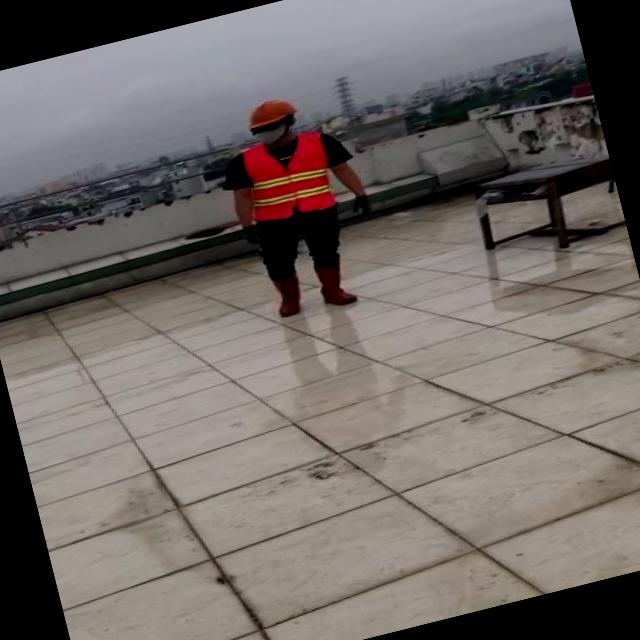boots: (314, 256, 362, 308), (268, 272, 306, 318)
gloves: (339, 186, 380, 219), (237, 208, 264, 254)
helmet: (240, 92, 299, 130)
vest: (238, 130, 334, 222)
